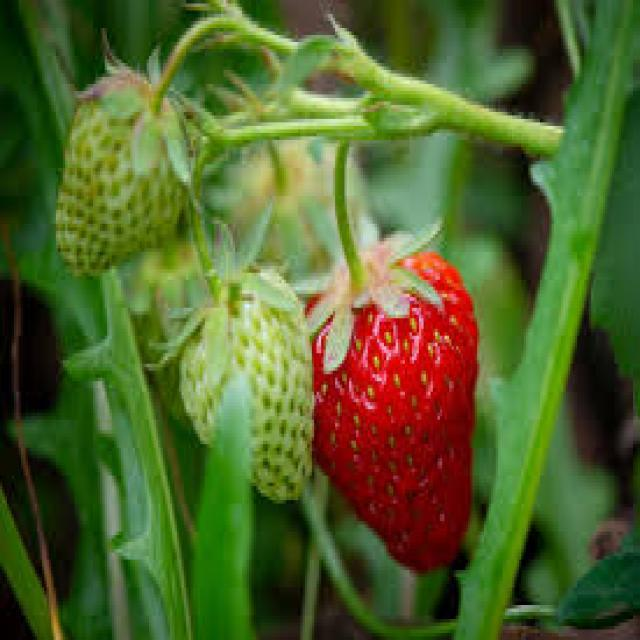Fruta sana: (302, 215, 474, 572)
